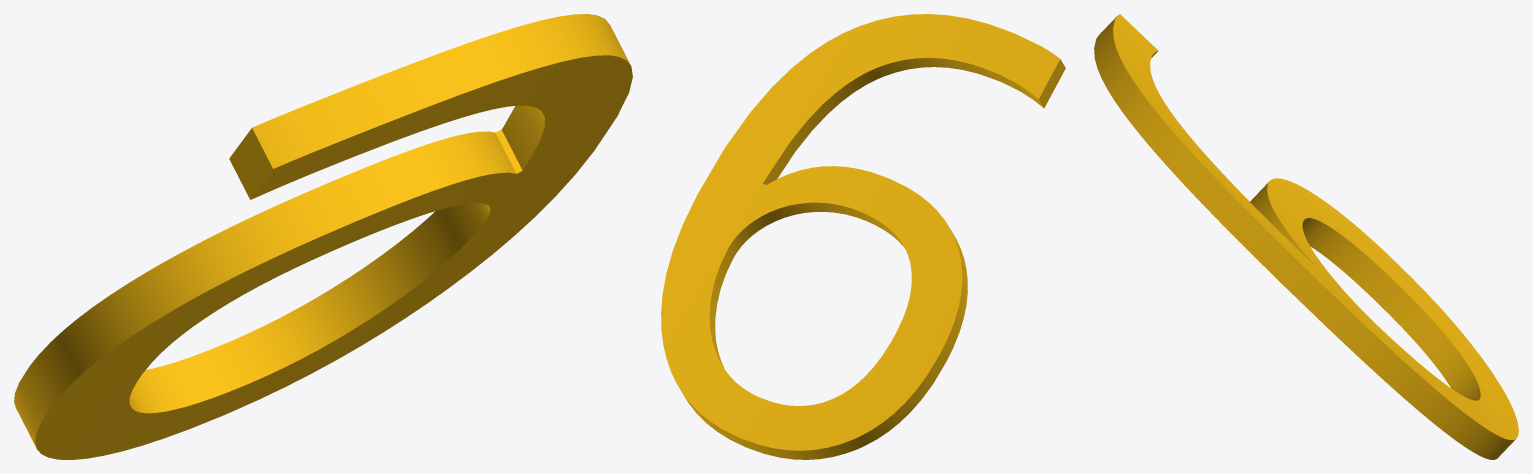
Rendered from Number_6.gltf.
3 renders of one model, left to right at view 1: azimuth 30°, elevation 25°; view 2: azimuth 150°, elevation 25°; view 3: azimuth 270°, elevation 25°, orthographic. The views are drawn at different scales.
Parts seen in each view (by area): view 1: Sub_5_Cell_2_1_Number_6; view 2: Sub_5_Cell_2_1_Number_6; view 3: Sub_5_Cell_2_1_Number_6.
Boxes of the visible parts, <box> form: Sub_5_Cell_2_1_Number_6: <box>14,14,632,459</box>; Sub_5_Cell_2_1_Number_6: <box>661,14,1065,459</box>; Sub_5_Cell_2_1_Number_6: <box>1094,14,1518,459</box>.
Bounding box in the file's own units: 0.0163 × 0.0188 × 0.0193.
